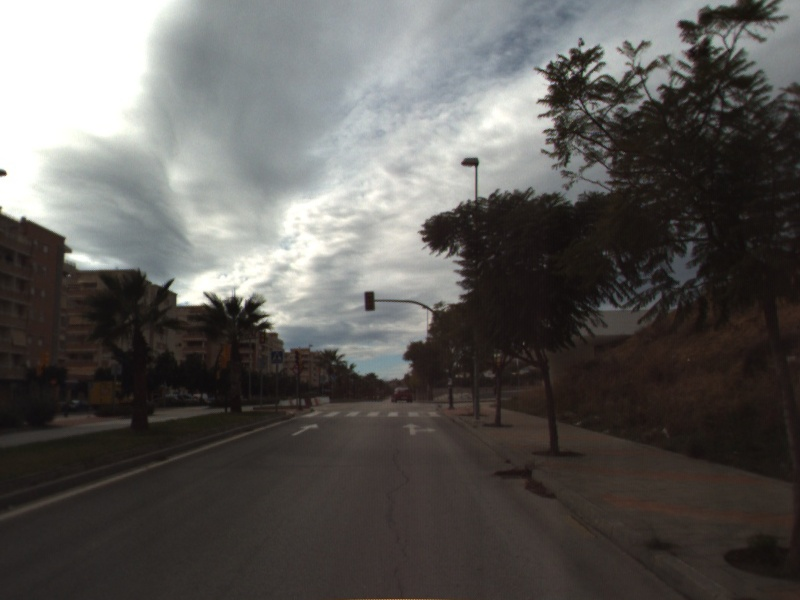STRAIGHT: (290, 421, 321, 437)
STRAIGHT_RIGHT: (400, 421, 438, 437)
